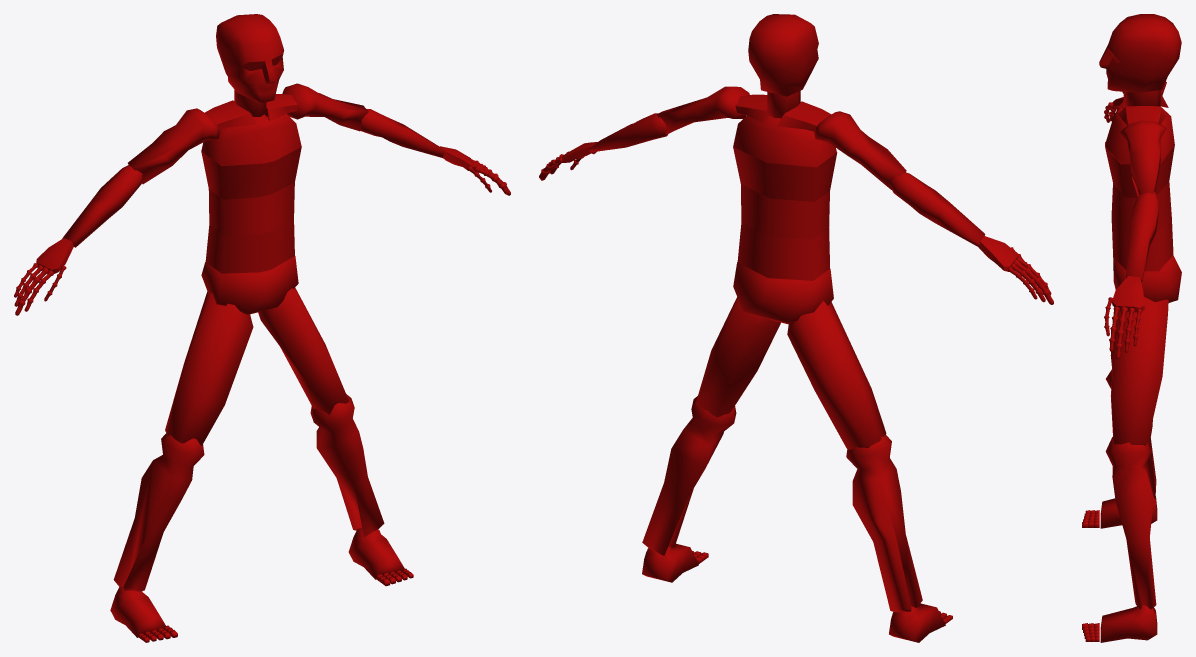
The model's file is PlayerTest.FBX.
The picture shows the model from 3 angles, left to right: view 1: azimuth 30°, elevation 25°; view 2: azimuth 150°, elevation 25°; view 3: azimuth 270°, elevation 25°; orthographic projection. The views are drawn at different scales.
Parts seen in each view (by area): view 1: 1.8m or 6foot tall character; view 2: 1.8m or 6foot tall character; view 3: 1.8m or 6foot tall character.
Part boxes in pixels (bbox=[...]): 1.8m or 6foot tall character: bbox=[14, 14, 510, 642]; 1.8m or 6foot tall character: bbox=[539, 14, 1053, 642]; 1.8m or 6foot tall character: bbox=[1082, 14, 1181, 642].
Size of the model in its own units: 62.7 by 68.8 by 11.17.
